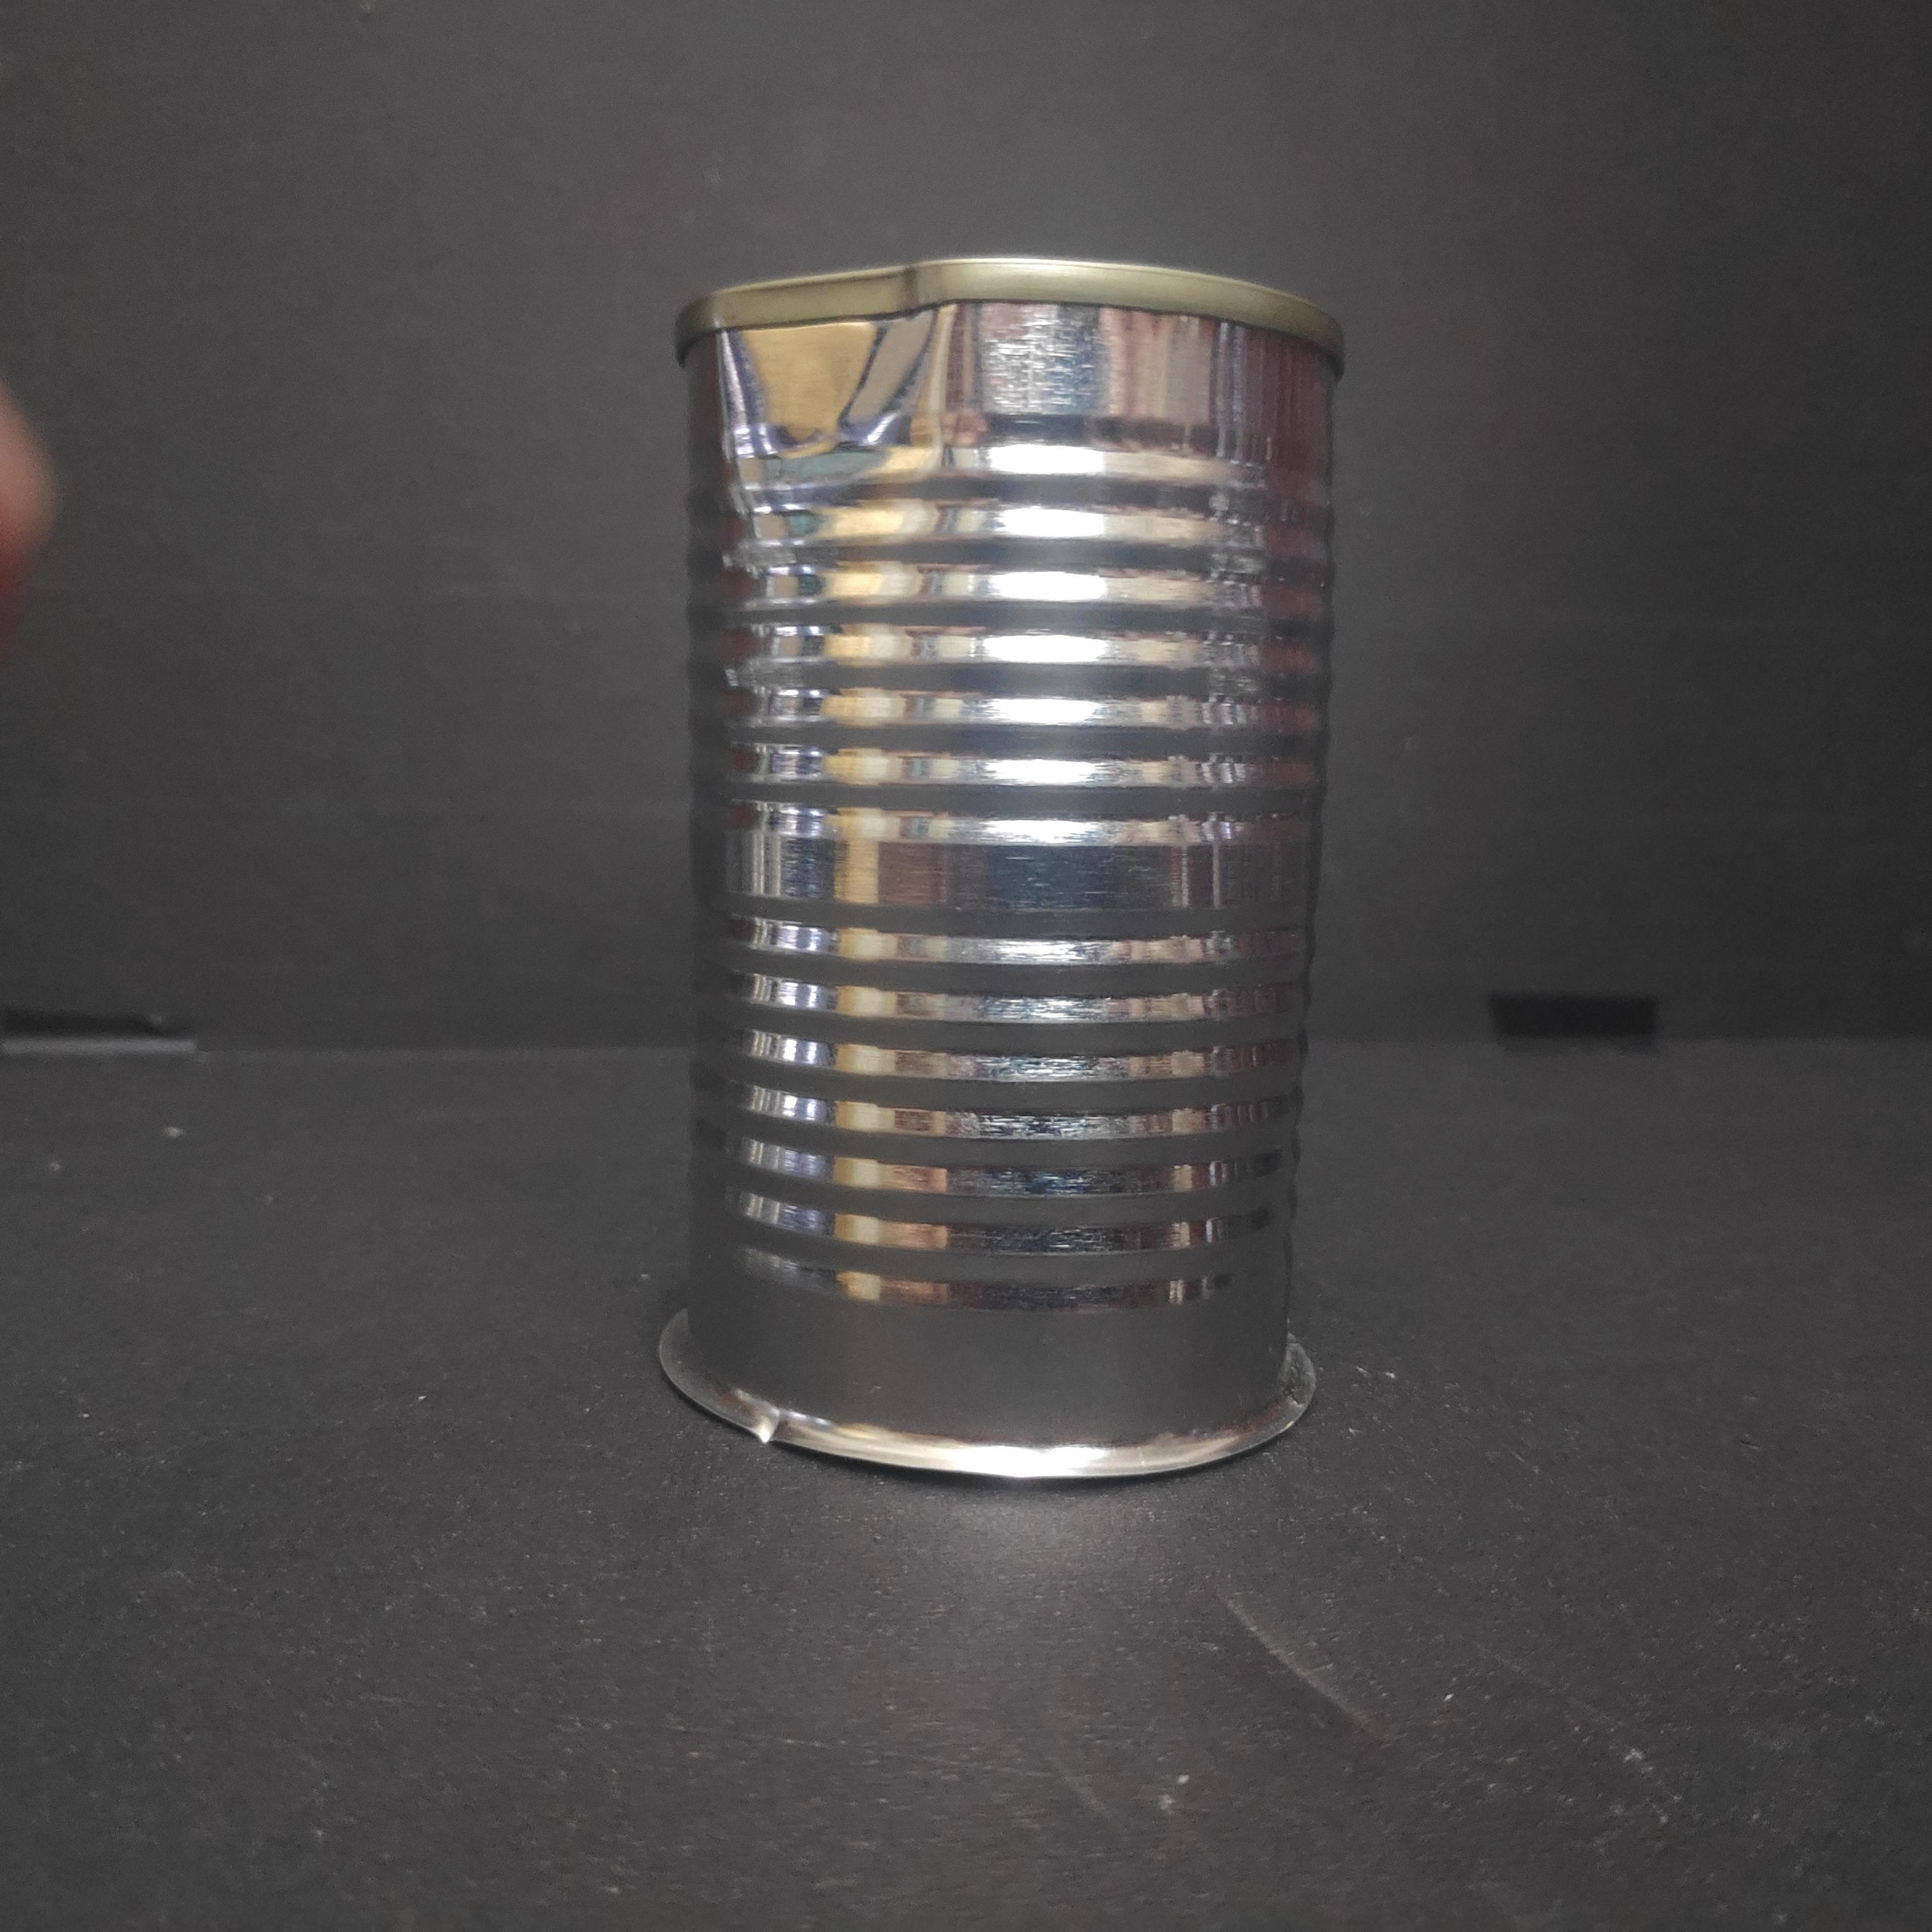Dented: (651, 234, 1361, 1511)
